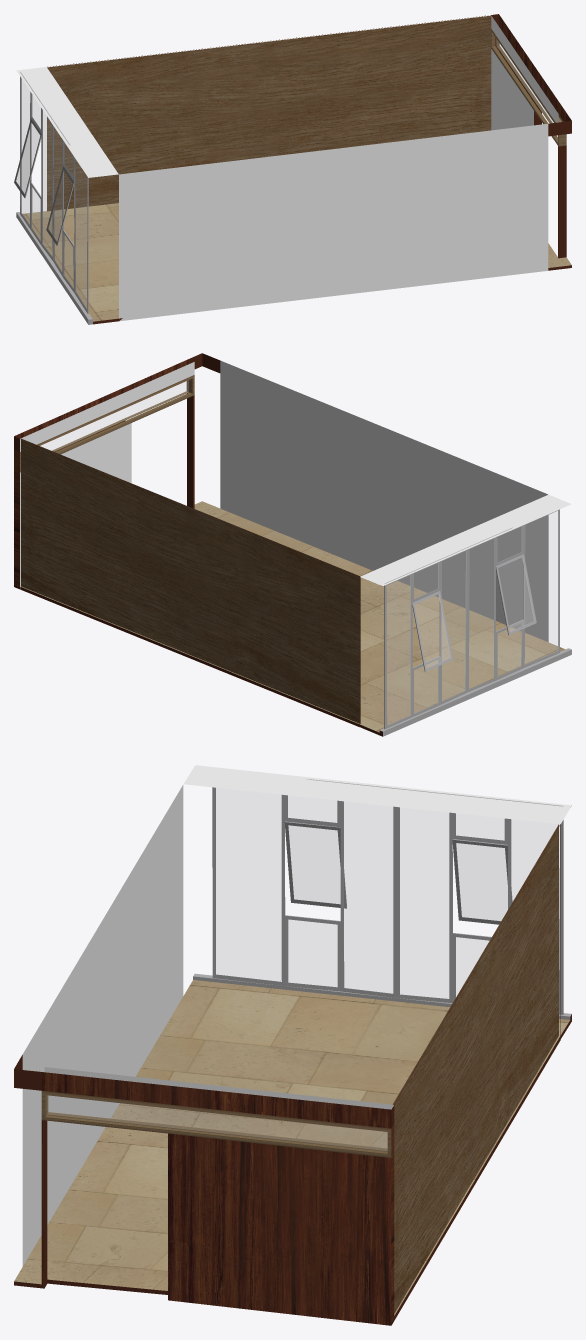
File: aula_2_arriba.glb
3 renders of one model, top to bottom at view 1: azimuth 30°, elevation 25°; view 2: azimuth 150°, elevation 25°; view 3: azimuth 270°, elevation 25°, orthographic. The views are drawn at different scales.
Visible parts, largest first — view 1: aula base.002; view 2: aula base.002; view 3: aula base.002.
Boxes of the visible parts, box(x1,y1,x2,y2) form: aula base.002: box(14, 14, 571, 324); aula base.002: box(14, 353, 571, 736); aula base.002: box(14, 765, 571, 1325).
Bounding box in the file's own units: 59.55 × 17.7 × 41.
6 materials, 3 textured.
